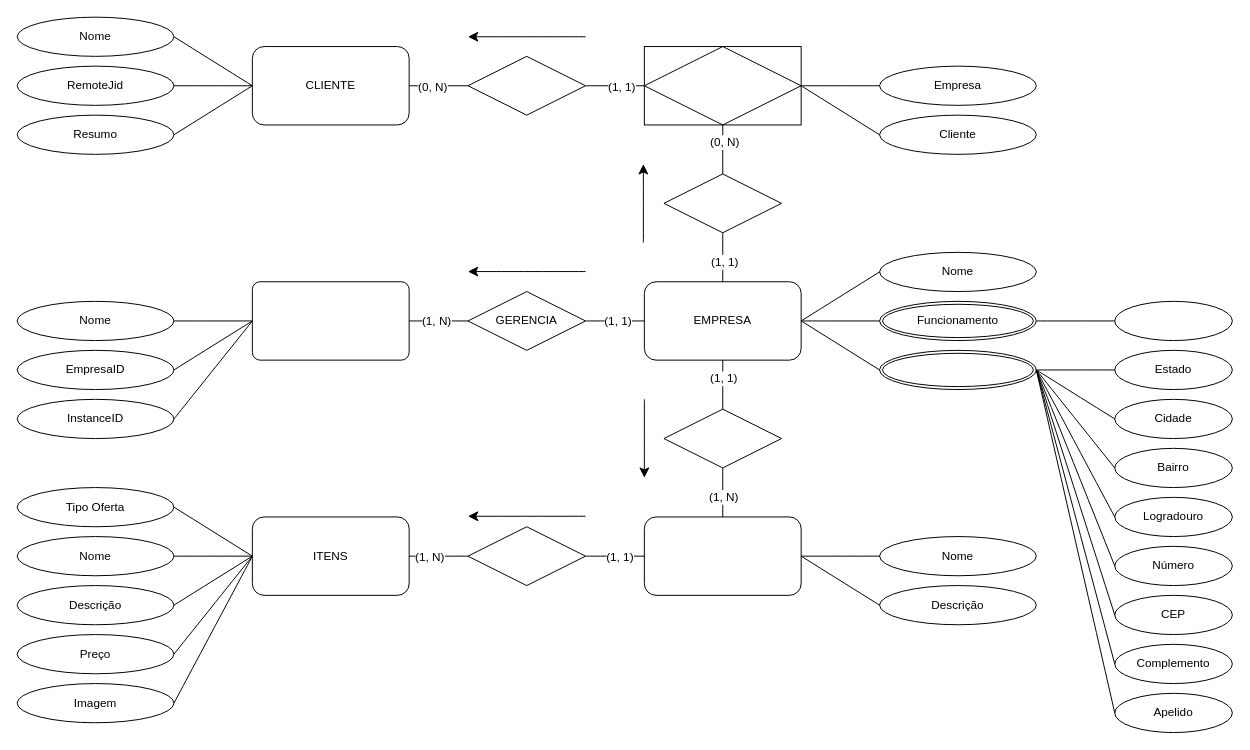
This 1250x750 diagram has some shape labels left out. Each missing label, with the centre of its shape:
ATENDE: pixel 526 85
ATENDIMENTO: pixel 722 85
CATALOGO: pixel 722 555
Dias semana: pixel 1173 320
Endereço: pixel 957 369
INSTÂNCIA: pixel 330 320
POSSUI: pixel 526 556
PROMOVE: pixel 722 438
REALIZA: pixel 722 203
